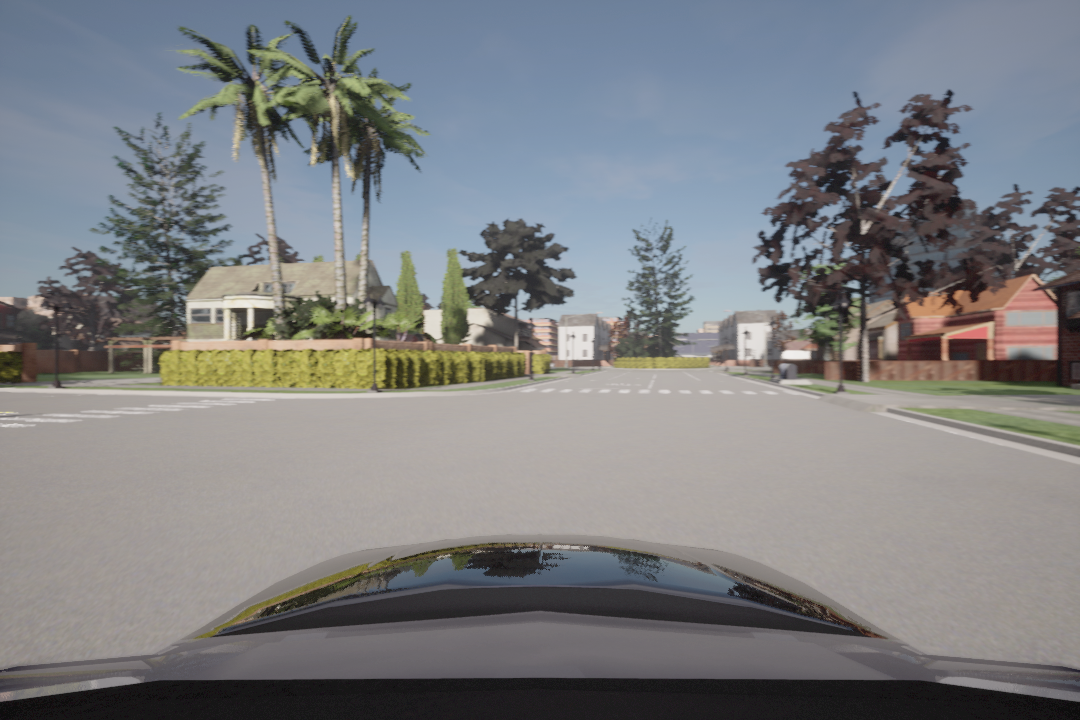walkside: (3, 390, 277, 437), (516, 384, 786, 396)
